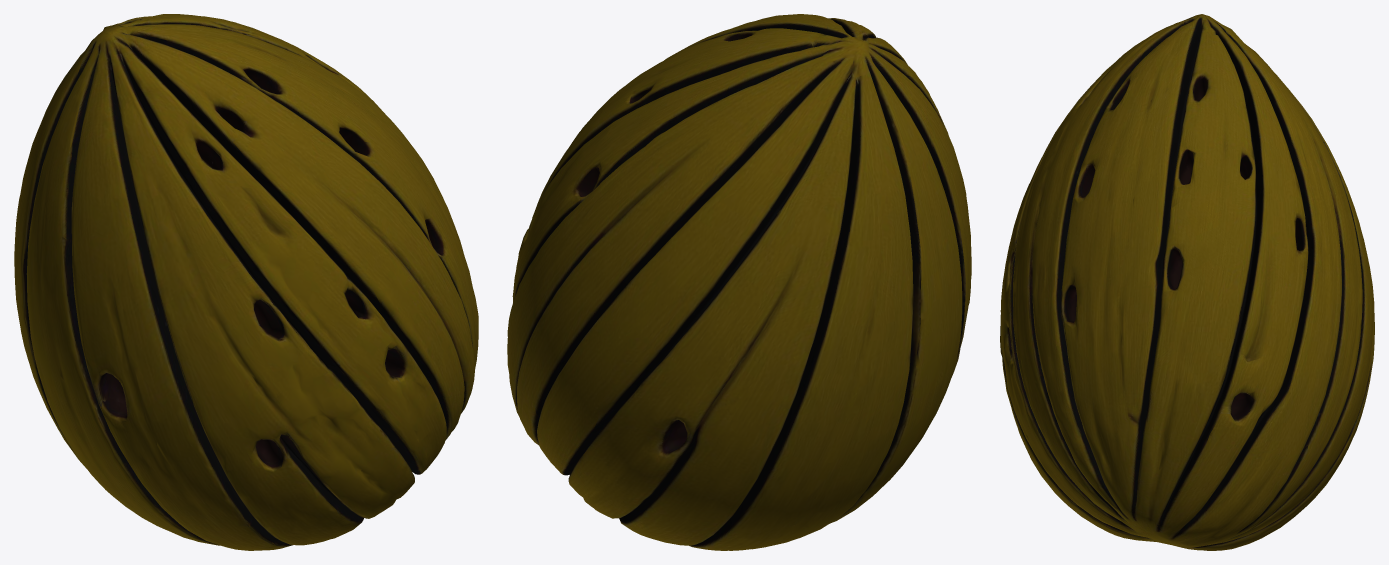
The model's file is seed+pod+3d+model+1k.glb.
The picture shows the model from 3 angles, left to right: view 1: azimuth 30°, elevation 25°; view 2: azimuth 150°, elevation 25°; view 3: azimuth 270°, elevation 25°; orthographic projection. The views are drawn at different scales.
Visible parts, largest first — view 1: tripo_node_2d8efd50-9358-408b-a977-995f0eff2abb; view 2: tripo_node_2d8efd50-9358-408b-a977-995f0eff2abb; view 3: tripo_node_2d8efd50-9358-408b-a977-995f0eff2abb.
Boxes of the visible parts, x1,y1,x2,y2 form: tripo_node_2d8efd50-9358-408b-a977-995f0eff2abb: (14, 14, 478, 550); tripo_node_2d8efd50-9358-408b-a977-995f0eff2abb: (507, 14, 971, 550); tripo_node_2d8efd50-9358-408b-a977-995f0eff2abb: (1000, 14, 1374, 550).
Bounding box in the file's own units: 0.8091 × 1 × 0.7437.
Materials: 1 (1 with a texture image).
